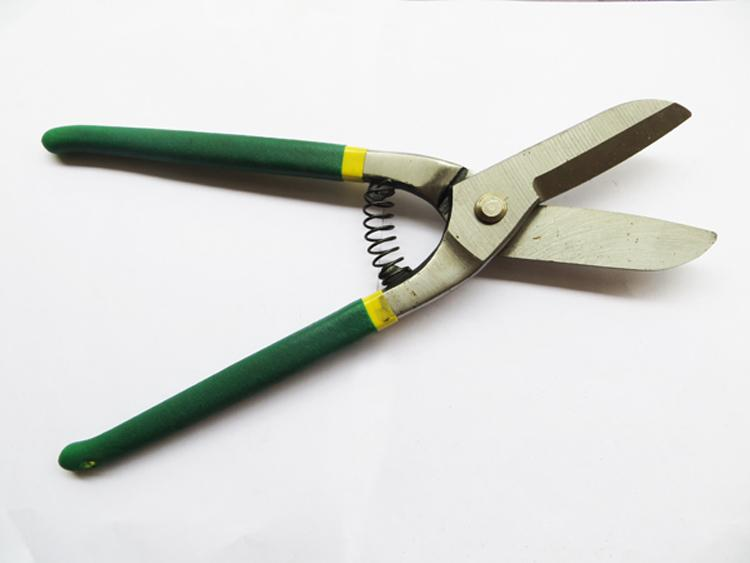scissor: (56, 108, 696, 406)
